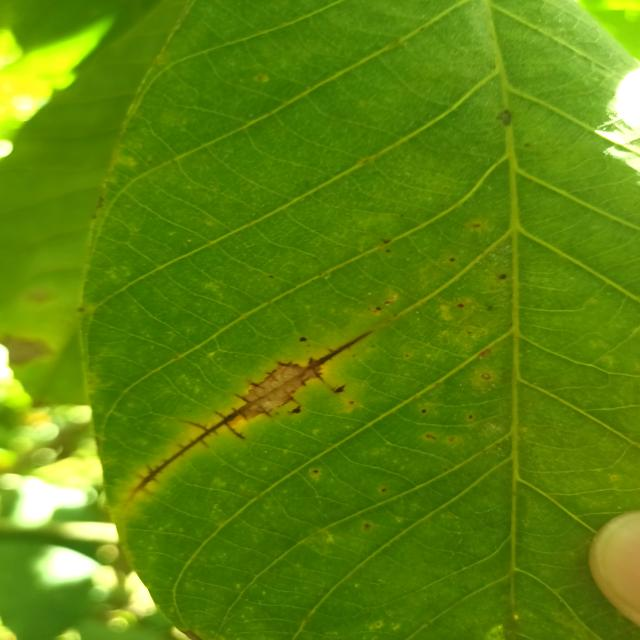Colletotrichum: (480, 373, 490, 380), (300, 338, 307, 342), (457, 304, 464, 308), (500, 275, 506, 279), (422, 409, 427, 413)
Corynespora: (128, 329, 378, 499)
